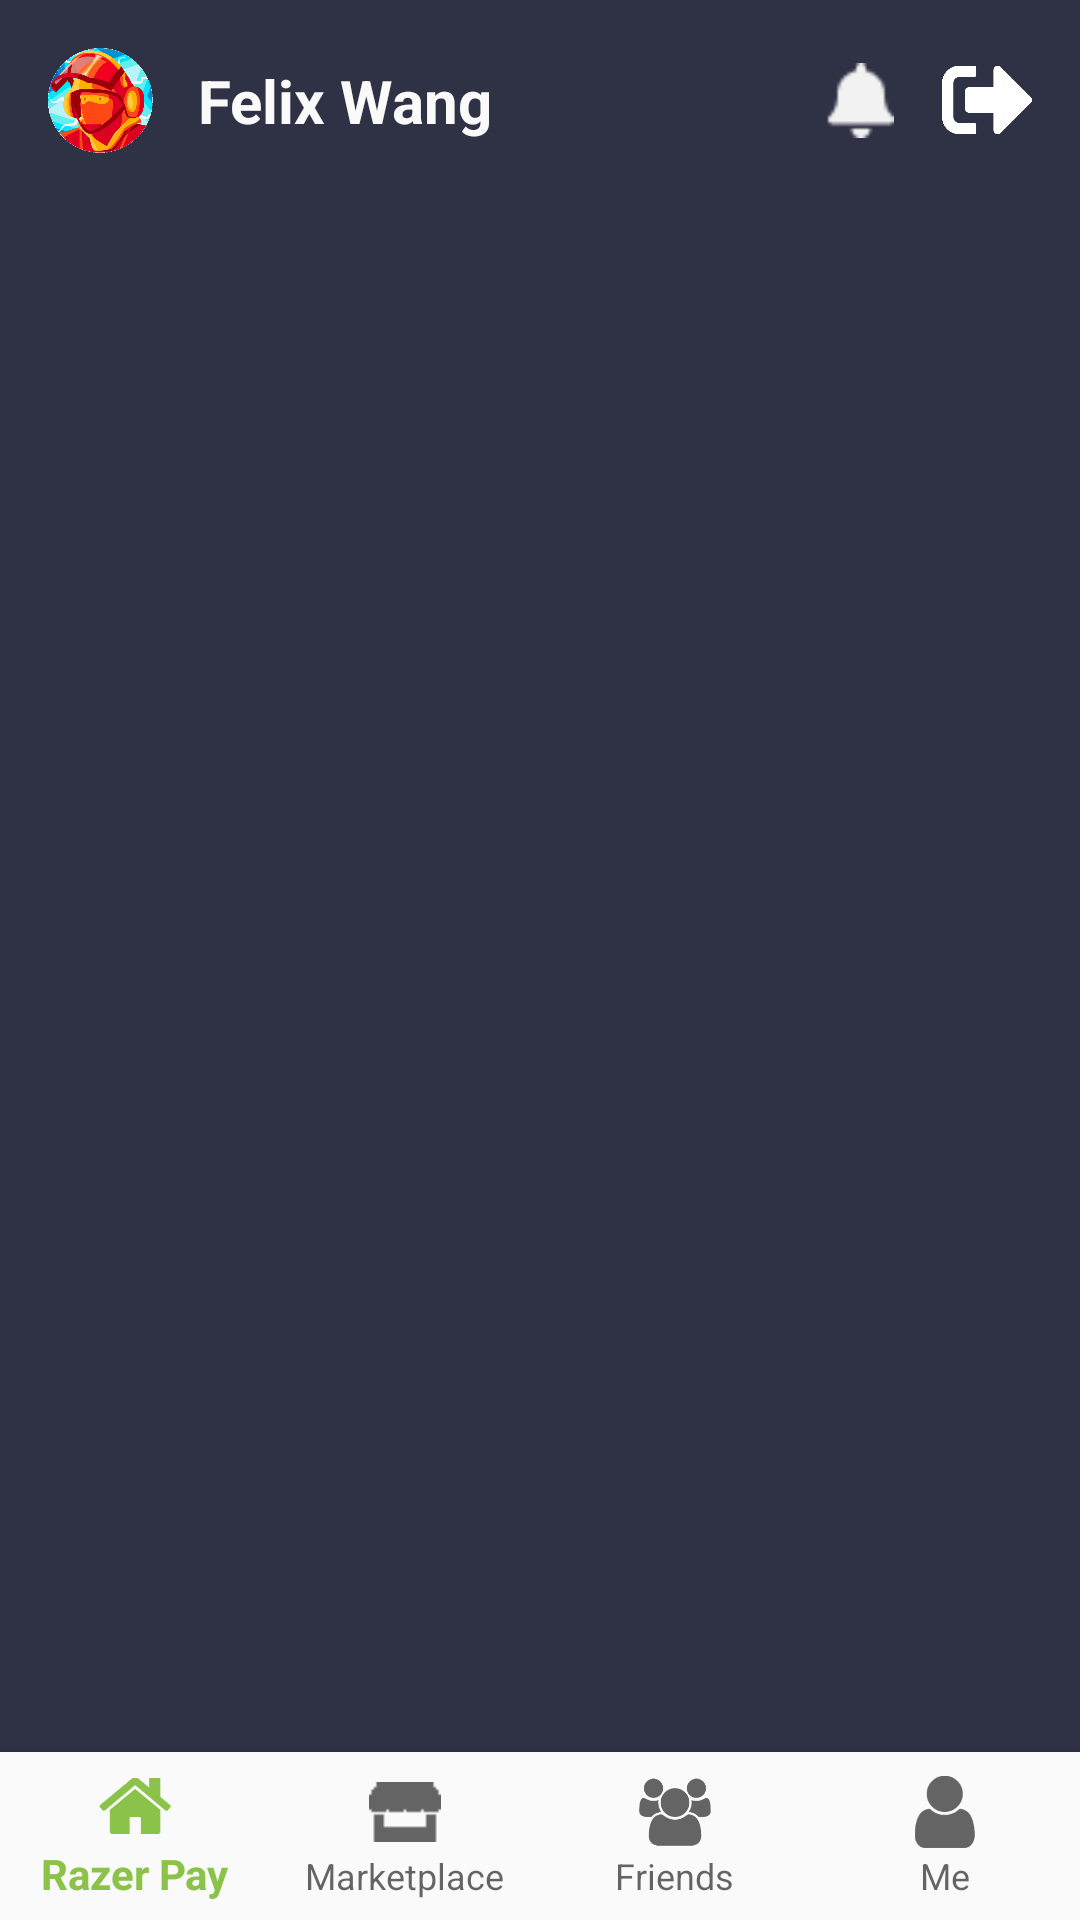

Named icons in this screenshot (1080*1920) and their bounding boxes, (x1, y1, x2, y2):
bell: (827, 63, 894, 138)
profile picture: (48, 48, 153, 153)
